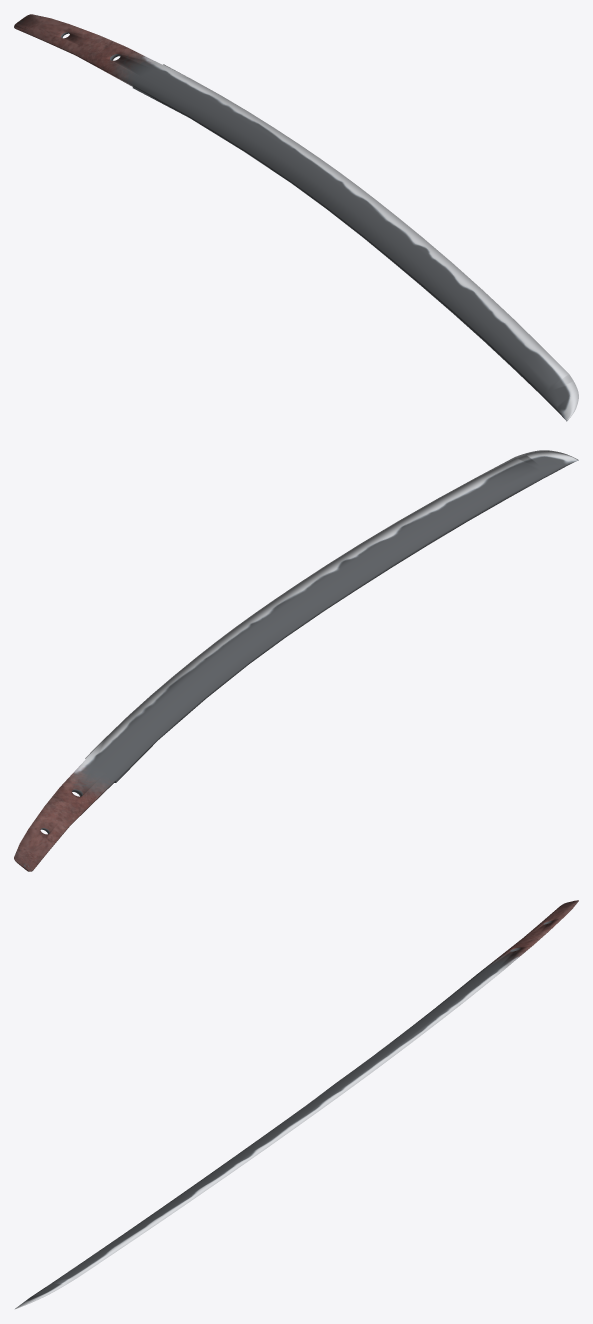
File: webvrkatana2.gltf
3 renders of one model, top to bottom at view 1: azimuth 30°, elevation 25°; view 2: azimuth 150°, elevation 25°; view 3: azimuth 330°, elevation 25°, orthographic.
Parts seen in each view (by area): view 1: tousin.001; view 2: tousin.001; view 3: tousin.001.
Boxes of the visible parts, bbox=[...] form: tousin.001: bbox=[14, 14, 578, 421]; tousin.001: bbox=[14, 450, 578, 871]; tousin.001: bbox=[15, 900, 578, 1308].
Bounding box in the file's own units: 4.81 × 2.44 × 72.82.
Materials: 1 (1 with a texture image).
